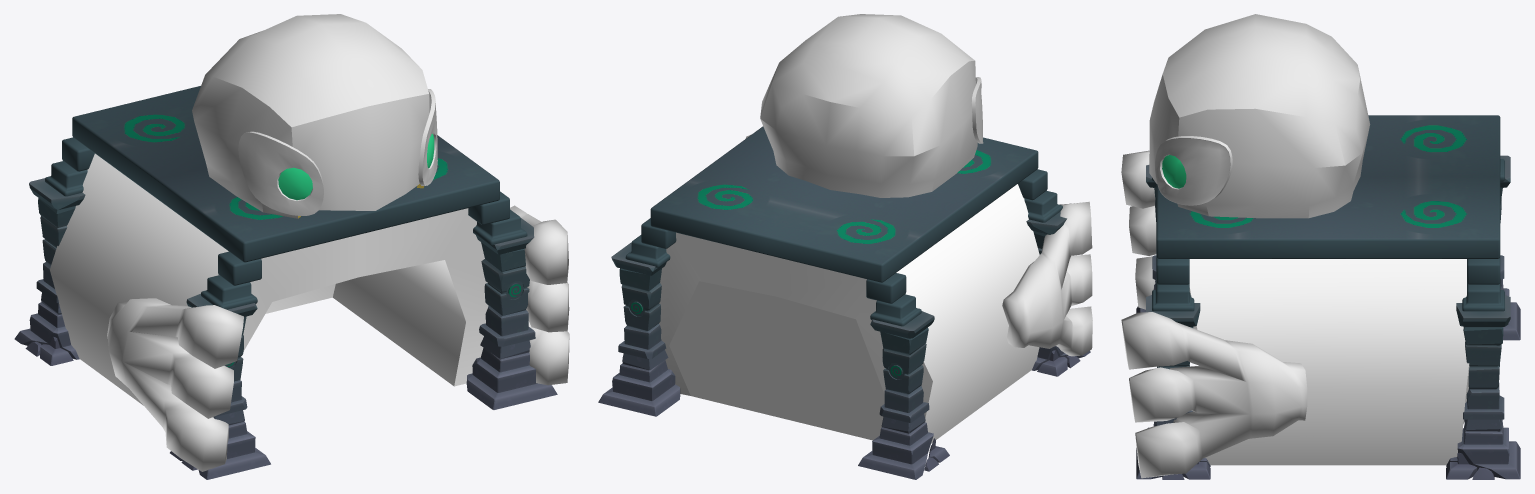
Rendered from RuinsTemple.fbx.
3 renders of one model, left to right at view 1: azimuth 30°, elevation 25°; view 2: azimuth 150°, elevation 25°; view 3: azimuth 270°, elevation 25°, orthographic. The views are drawn at different scales.
Parts seen in each view (by area): view 1: Cylinder, FrogHead, Roof, ForgHands, Pillars, ForgEyes; view 2: Cylinder, Roof, FrogHead, Pillars, ForgHands, ForgEyes; view 3: Cylinder, Roof, FrogHead, ForgHands, Pillars, ForgEyes.
Part boxes in pixels (<box>): Cylinder: <box>50,153,488,405</box>; FrogHead: <box>192,14,430,218</box>; Roof: <box>45,86,527,309</box>; ForgHands: <box>107,205,569,471</box>; Pillars: <box>14,178,557,479</box>; ForgEyes: <box>238,89,437,215</box>; Cylinder: <box>659,184,1039,443</box>; Roof: <box>625,126,1062,326</box>; FrogHead: <box>760,14,977,197</box>; Pillars: <box>598,211,1090,479</box>; ForgHands: <box>745,135,1092,356</box>; ForgEyes: <box>971,77,983,143</box>; Cylinder: <box>1189,259,1469,465</box>; Roof: <box>1152,115,1504,311</box>; FrogHead: <box>1149,14,1370,218</box>; ForgHands: <box>1121,150,1307,478</box>; Pillars: <box>1136,155,1520,479</box>; ForgEyes: <box>1155,136,1232,205</box>.
Size of the model in its own units: 28.74 by 24.34 by 23.96.
